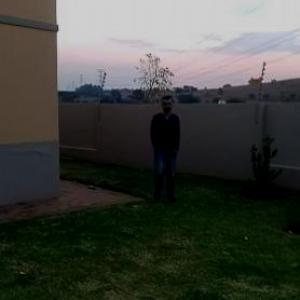follow: (144, 93, 183, 204)
